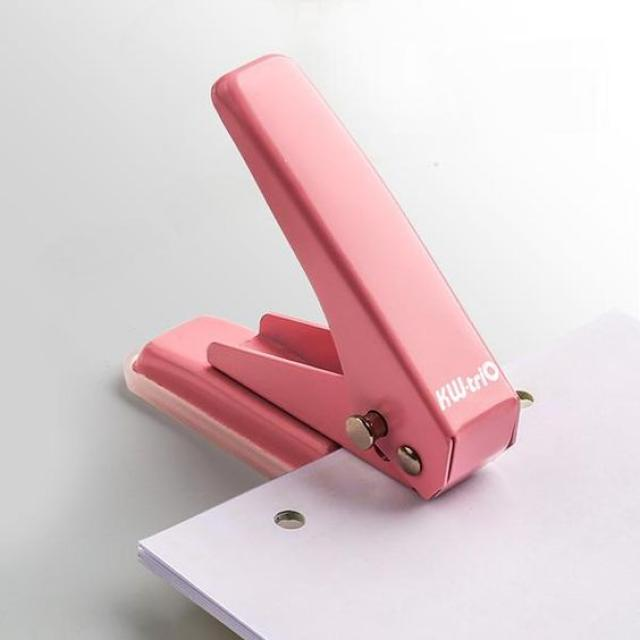Stapler: (91, 41, 534, 524)
